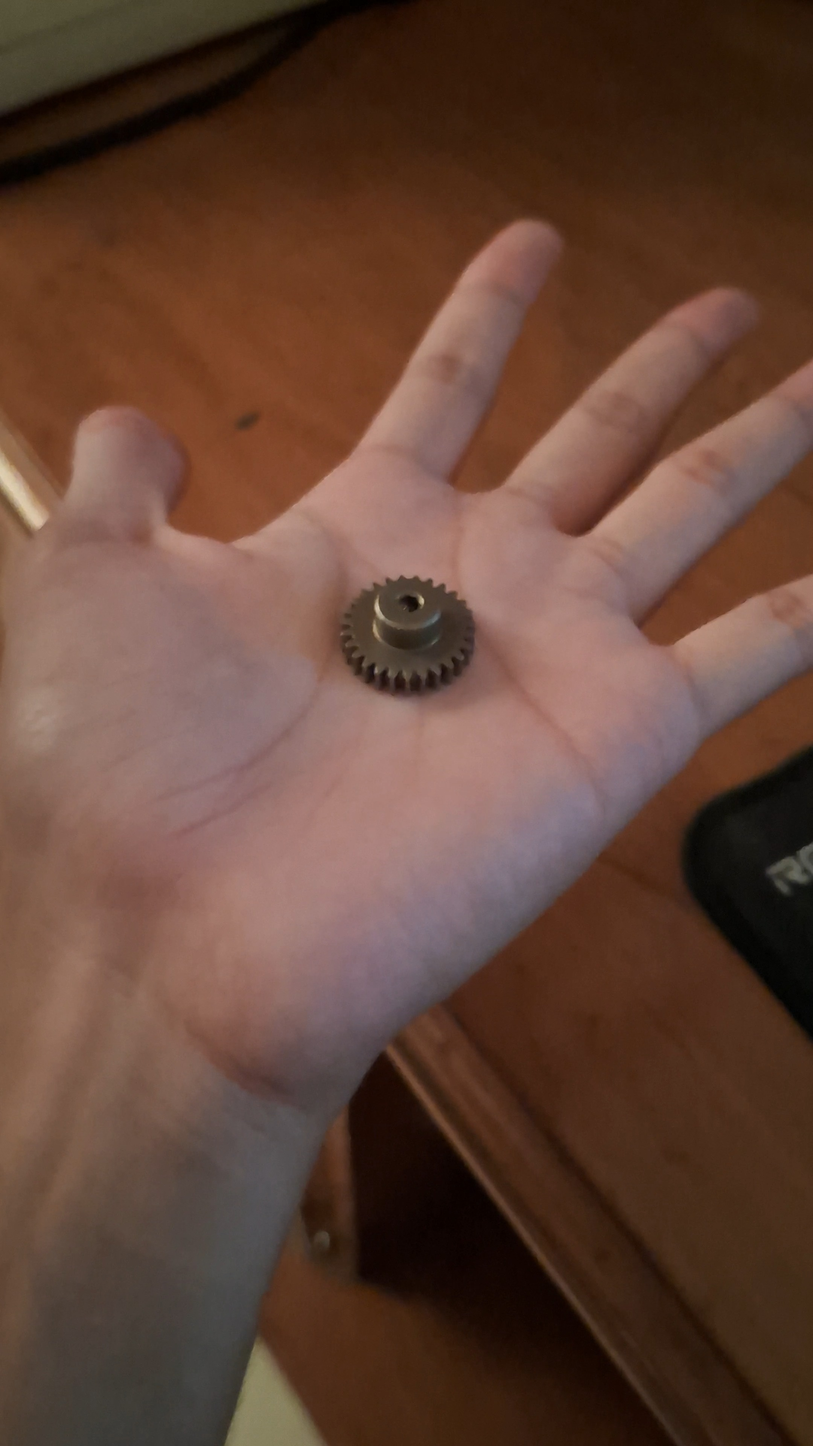spur gear: (341, 577, 473, 693)
